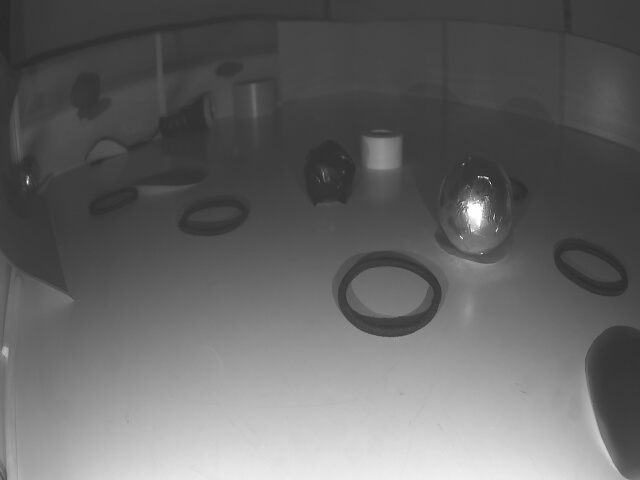Dead: (301, 140, 353, 202)
Live: (440, 155, 514, 254), (16, 164, 39, 190)
